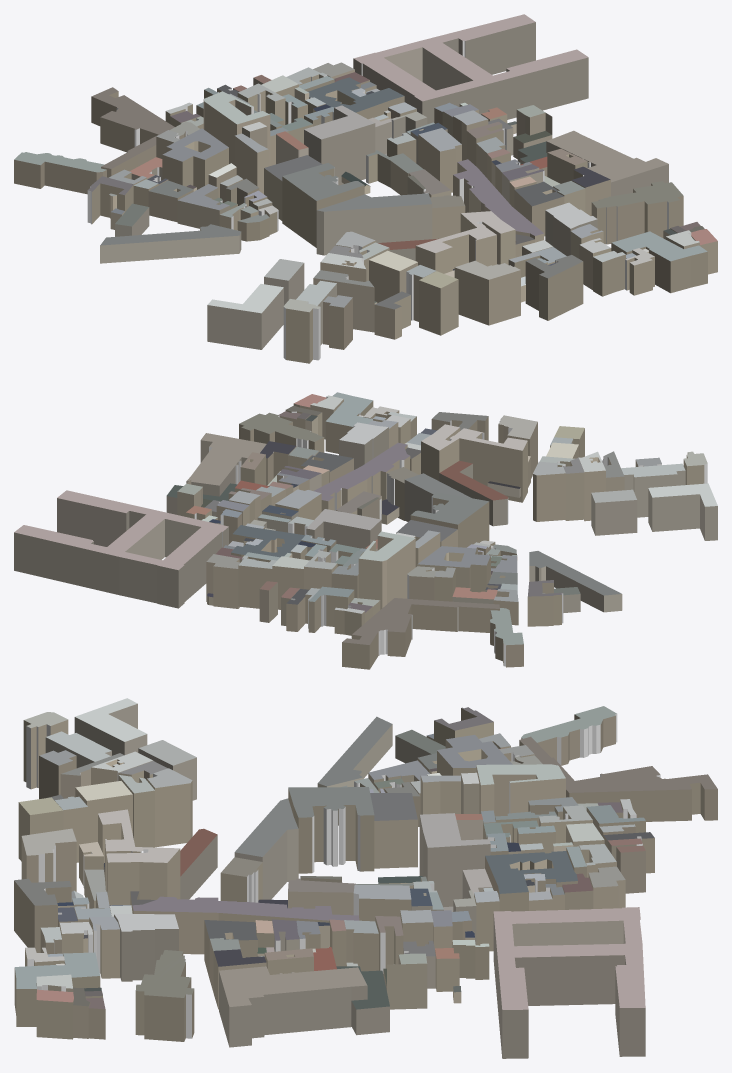
3 views of the same model, one above another, from view 1: azimuth 30°, elevation 25°; view 2: azimuth 150°, elevation 25°; view 3: azimuth 270°, elevation 25° (orthographic). The views are drawn at different scales.
Parts seen in each view (by area): view 1: tuile; view 2: tuile; view 3: tuile.
Part boxes in pixels (box(x1,y1,x2,y2)): tuile: box(14, 14, 717, 363); tuile: box(14, 392, 717, 669); tuile: box(14, 698, 717, 1058).
Size of the model in its own units: 310 by 46.58 by 294.
